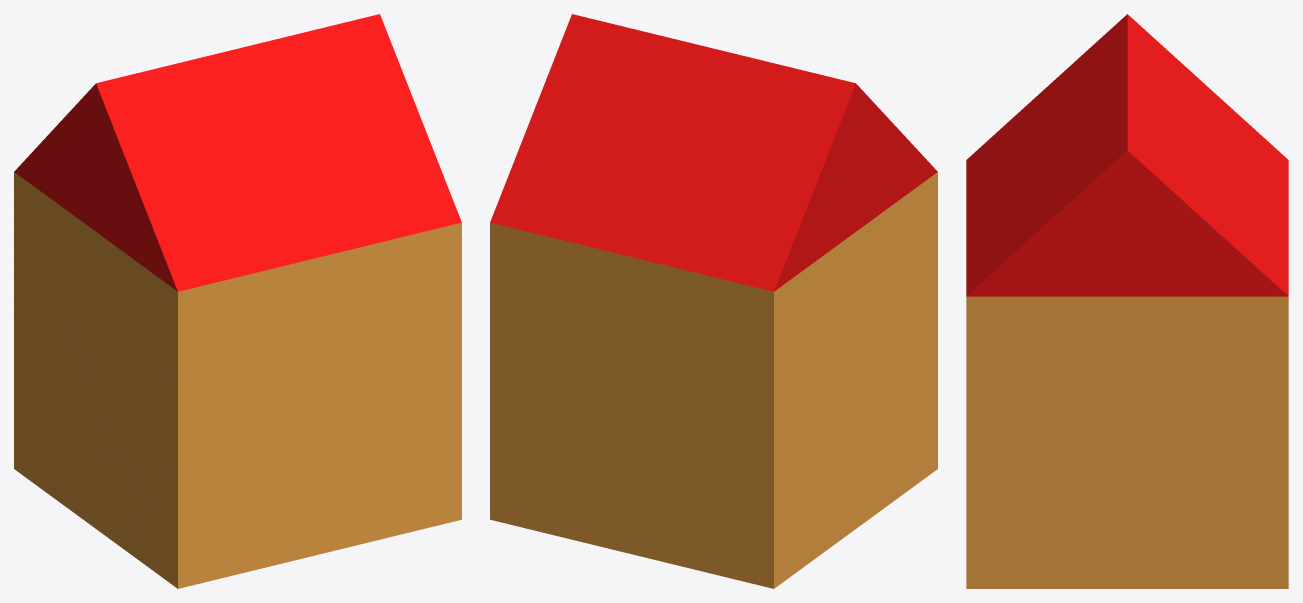
File: house.glb
3 views of the same model, side by side, from view 1: azimuth 30°, elevation 25°; view 2: azimuth 150°, elevation 25°; view 3: azimuth 270°, elevation 25° (orthographic).
Parts seen in each view (by area): view 1: House; view 2: House; view 3: House.
Boxes of the visible parts, box(x1,y1,x2,y2) form: House: box(14, 14, 461, 588); House: box(490, 14, 937, 588); House: box(966, 14, 1288, 588).
Size of the model in its own units: 2 by 3 by 2.
1 material, 1 textured.
